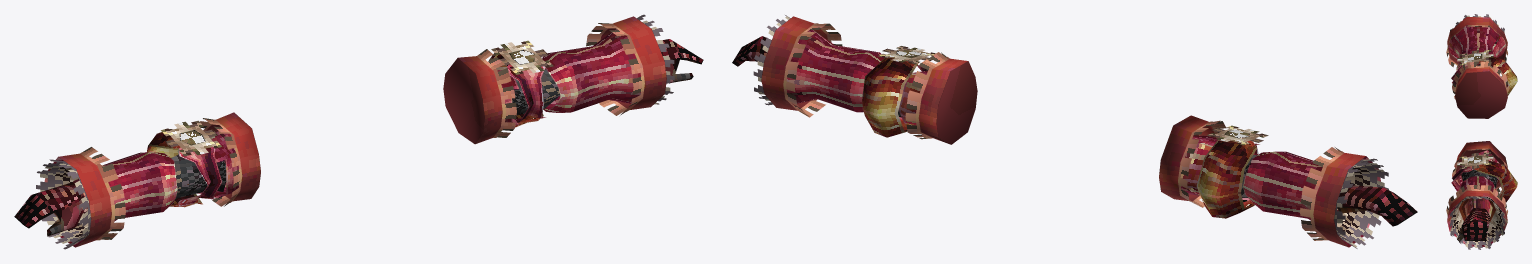
Rendered from m_arm316.glb.
The picture shows the model from 3 angles, left to right: view 1: azimuth 30°, elevation 25°; view 2: azimuth 150°, elevation 25°; view 3: azimuth 270°, elevation 25°; orthographic projection. The views are drawn at different scales.
Bounding box in the file's own units: 176 × 20.59 × 25.23.
1 material, 1 textured.
